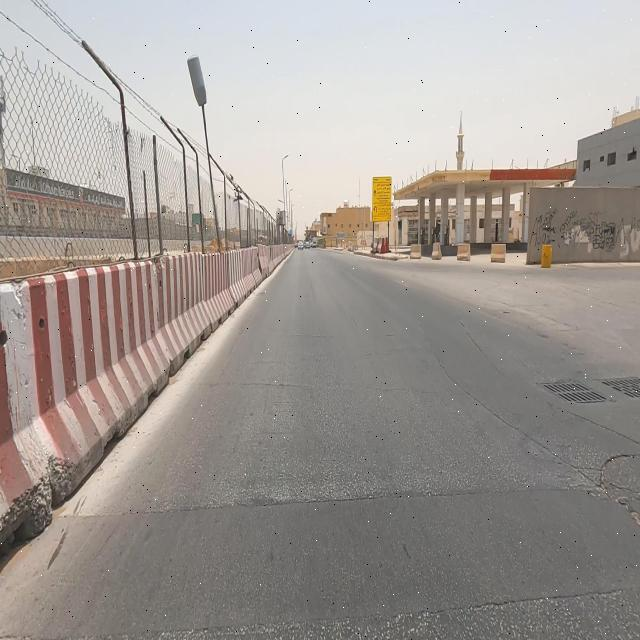Graffiti: (529, 207, 639, 251)
